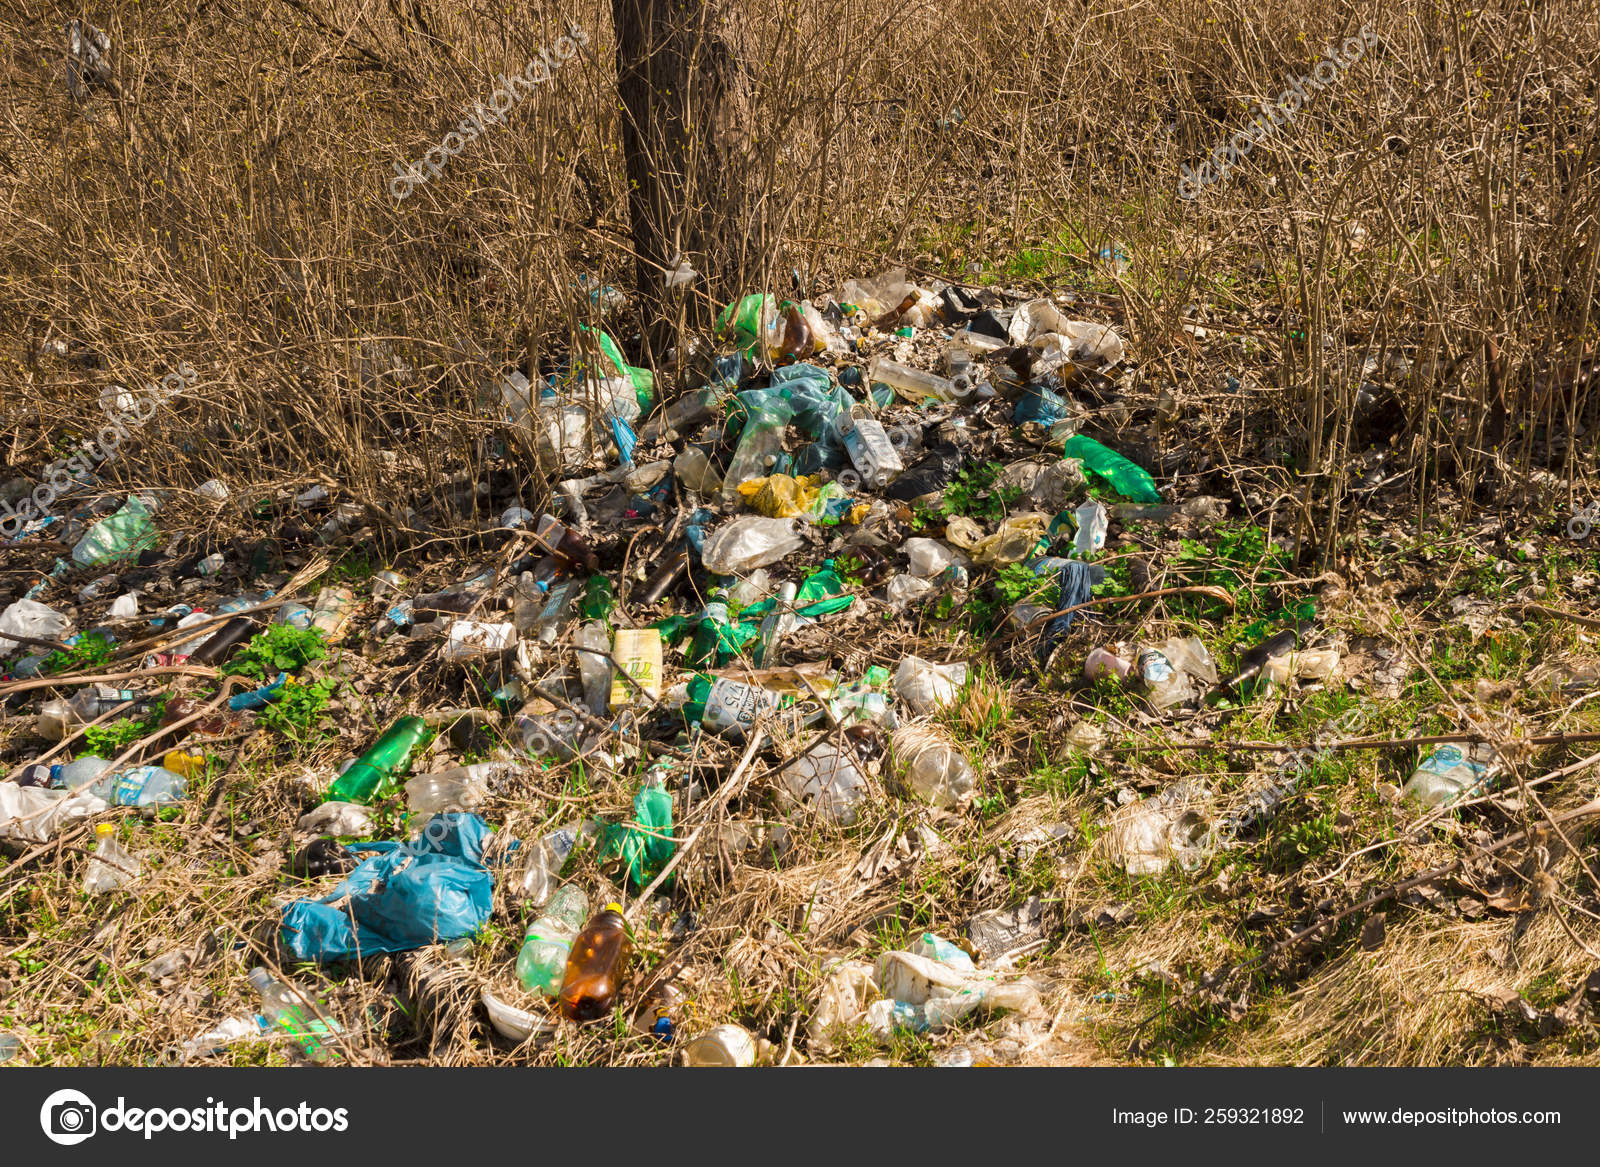plastic_bottle: (641, 270, 965, 662), (448, 831, 788, 1089), (16, 656, 291, 942), (1027, 355, 1333, 595), (1312, 606, 1552, 895), (193, 876, 480, 1091), (291, 628, 503, 882)
